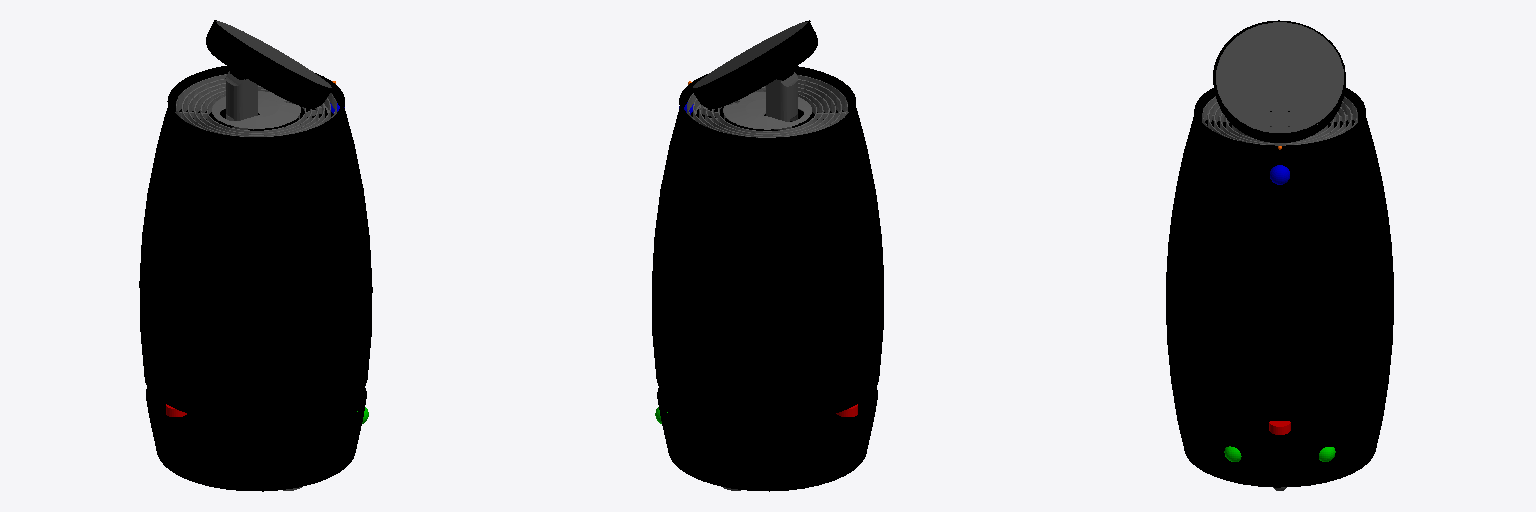
--- Facts derived from the render (not from the file) ---
The picture shows the robot from 3 angles, left to right: view 1: azimuth 30°, elevation 25°; view 2: azimuth 150°, elevation 25°; view 3: azimuth 270°, elevation 25°; orthographic projection.
Model clean_robot with 28 links and 27 joints (6 continuous, 21 fixed), rooted at base_link, posed all joints at 0.
Visible links, largest first — view 1: hull_base, hull_grill, hull_head, hull_neck, hull_face, hull_link; view 2: hull_base, hull_grill, hull_head, hull_neck, hull_face, hull_link; view 3: hull_base, hull_face, hull_grill, hull_head, hull_link.
Link boxes in pixels (bbox=[...]): hull_base: bbox=[139, 66, 372, 491]; hull_grill: bbox=[175, 74, 336, 136]; hull_head: bbox=[206, 20, 332, 108]; hull_neck: bbox=[225, 71, 257, 129]; hull_face: bbox=[216, 21, 331, 87]; hull_link: bbox=[176, 106, 334, 432]; hull_base: bbox=[652, 66, 883, 491]; hull_grill: bbox=[687, 75, 848, 137]; hull_head: bbox=[691, 20, 817, 108]; hull_neck: bbox=[766, 72, 797, 130]; hull_face: bbox=[693, 22, 807, 87]; hull_link: bbox=[689, 107, 847, 432]; hull_base: bbox=[1166, 88, 1393, 487]; hull_face: bbox=[1216, 22, 1343, 132]; hull_grill: bbox=[1202, 96, 1357, 145]; hull_head: bbox=[1213, 20, 1345, 142]; hull_link: bbox=[1203, 120, 1356, 424].
Size in the robot's own frame: 0.3731 by 0.3797 by 0.7785 metres.
Meshes: 5 distinct files referenced, 5 mesh visuals loaded (5 binary STL).

The robot description file, URDF, robot "clean_robot":
<?xml version="1.0" ?>
<!-- =================================================================================== -->
<!-- |    This document was autogenerated by xacro from a1.xacro                       | -->
<!-- |    EDITING THIS FILE BY HAND IS NOT RECOMMENDED                                 | -->
<!-- =================================================================================== -->
<robot name="clean_robot">
  <!-- =========================== XACRO Properties ========================= -->
  <!-- ====================================================================== -->
  <material name="black">
    <color rgba="0.0 0.0 0.0 1.0"/>
  </material>
  <material name="dark">
    <color rgba="0.3 0.3 0.3 1.0"/>
  </material>
  <material name="light_black">
    <color rgba="0.4 0.4 0.4 1.0"/>
  </material>
  <material name="blue">
    <color rgba="0.0 0.0 0.8 1.0"/>
  </material>
  <material name="green">
    <color rgba="0.0 0.8 0.0 1.0"/>
  </material>
  <material name="grey">
    <color rgba="0.5 0.5 0.5 1.0"/>
  </material>
  <material name="orange">
    <color rgba="1.0 0.4235 0.0392 1.0"/>
  </material>
  <material name="brown">
    <color rgba="0.8706 0.8118 0.7647 1.0"/>
  </material>
  <material name="red">
    <color rgba="0.8 0.0 0.0 1.0"/>
  </material>
  <material name="white">
    <color rgba="1.0 1.0 1.0 1.0"/>
  </material>
  <link name="base_link">
    <visual>
      <origin rpy="0 0 0" xyz="0 0 0.065"/>
      <geometry>
        <cylinder length="0.08" radius="0.159"/>
      </geometry>
      <material name="black"/>
    </visual>
    <collision>
      <origin rpy="0 0 0" xyz="0 0 0.065"/>
      <geometry>
        <cylinder length="0.08" radius="0.18"/>
      </geometry>
    </collision>
    <inertial>
      <mass value="6.0"/>
      <origin xyz="0 0 0"/>
      <inertia ixx="0.01" ixy="0.0" ixz="0.0" iyy="0.01" iyz="0.0" izz="0.01"/>
    </inertial>
  </link>
  <gazebo reference="base_link">
    <material>Gazebo/Grey</material>
  </gazebo>
  <link name="hull_link">
    <visual>
      <origin rpy="0 0 0" xyz="0 0 0.32"/>
      <geometry>
        <cylinder length="0.56" radius="0.13"/>
      </geometry>
      <material name="black"/>
    </visual>
    <collision>
      <origin rpy="0 0 0" xyz="0 0 0.425"/>
      <geometry>
        <cylinder length="0.64" radius="0.13"/>
      </geometry>
    </collision>
    <inertial>
      <mass value="6.0"/>
      <origin xyz="0 0 0"/>
      <inertia ixx="0.18" ixy="0.0" ixz="0.0" iyy="0.18" iyz="0.0" izz="0.05"/>
    </inertial>
  </link>
  <gazebo reference="hull_link">
    <material>Gazebo/Black</material>
  </gazebo>
  <link name="hull_base">
    <visual>
      <origin rpy="0 0 0" xyz="0 0 0"/>
      <geometry>
        <mesh filename="package://namuhx-a1/meshes/base.stl"/>
      </geometry>
      <material name="black"/>
    </visual>
  </link>
  <gazebo reference="hull_base">
    <material>Gazebo/Black</material>
  </gazebo>
  <link name="hull_grill">
    <visual>
      <origin rpy="0 0 0" xyz="0 0 0"/>
      <geometry>
        <mesh filename="package://namuhx-a1/meshes/grill.stl"/>
      </geometry>
      <material name="light_black"/>
    </visual>
  </link>
  <gazebo reference="hull_grill">
    <material>Gazebo/Grey</material>
  </gazebo>
  <link name="hull_neck">
    <visual>
      <origin rpy="0 0 0" xyz="0 0 0"/>
      <geometry>
        <mesh filename="package://namuhx-a1/meshes/neck.stl"/>
      </geometry>
      <material name="dark"/>
    </visual>
  </link>
  <gazebo reference="hull_neck">
    <material>Gazebo/DarkGrey</material>
  </gazebo>
  <link name="hull_head">
    <visual>
      <origin rpy="0 0 0" xyz="0 0 0"/>
      <geometry>
        <mesh filename="package://namuhx-a1/meshes/head.stl"/>
      </geometry>
      <material name="black"/>
    </visual>
  </link>
  <gazebo reference="hull_head">
    <material>Gazebo/Black</material>
  </gazebo>
  <link name="hull_face">
    <visual>
      <origin rpy="0 0 0" xyz="0 0 0"/>
      <geometry>
        <mesh filename="package://namuhx-a1/meshes/face.stl"/>
      </geometry>
      <material name="dark"/>
    </visual>
  </link>
  <gazebo reference="hull_face">
    <material>Gazebo/DarkGrey</material>
  </gazebo>
  <link name="wheel_main_left_link">
    <visual>
      <origin rpy="0 0 0" xyz="0 0 0"/>
      <geometry>
        <cylinder length="0.0307" radius="0.0501"/>
      </geometry>
      <material name="dark"/>
    </visual>
    <collision>
      <origin rpy="0 0 0" xyz="0 0 0"/>
      <geometry>
        <cylinder length="0.0307" radius="0.0501"/>
      </geometry>
    </collision>
    <inertial>
      <mass value="1.0"/>
      <origin xyz="0 0 0"/>
      <inertia ixx="0.01" ixy="0.0" ixz="0.0" iyy="0.01" iyz="0.0" izz="0.01"/>
    </inertial>
  </link>
  <gazebo reference="wheel_main_left_link">
    <material>Gazebo/DarkGrey</material>
  </gazebo>
  <link name="wheel_main_right_link">
    <visual>
      <origin rpy="0 0 0" xyz="0 0 0"/>
      <geometry>
        <cylinder length="0.0307" radius="0.0501"/>
      </geometry>
      <material name="dark"/>
    </visual>
    <collision>
      <origin rpy="0 0 0" xyz="0 0 0"/>
      <geometry>
        <cylinder length="0.0307" radius="0.0501"/>
      </geometry>
    </collision>
    <inertial>
      <mass value="1.0"/>
      <origin xyz="0 0 0"/>
      <inertia ixx="0.01" ixy="0.0" ixz="0.0" iyy="0.01" iyz="0.0" izz="0.01"/>
    </inertial>
  </link>
  <gazebo reference="wheel_main_right_link">
    <material>Gazebo/DarkGrey</material>
  </gazebo>
  <link name="wheel_sub_front_link">
    <visual>
      <origin rpy="0 0 0" xyz="0 0 0"/>
      <geometry>
        <sphere radius="0.0125"/>
      </geometry>
      <material name="dark"/>
    </visual>
    <collision>
      <origin rpy="0 0 0" xyz="0 0 0"/>
      <geometry>
        <sphere radius="0.0125"/>
      </geometry>
    </collision>
    <inertial>
      <mass value="0.2"/>
      <origin xyz="0 0 0"/>
      <inertia ixx="0.01" ixy="0.0" ixz="0.0" iyy="0.01" iyz="0.0" izz="0.01"/>
    </inertial>
  </link>
  <gazebo reference="wheel_sub_front_link">
    <material>Gazebo/DarkGrey</material>
  </gazebo>
  <link name="wheel_sub_front_swivel">
    <visual>
      <origin rpy="0 0 0" xyz="0 0 0.018"/>
      <geometry>
        <cylinder length="0.02" radius="0.02125"/>
      </geometry>
      <material name="dark"/>
    </visual>
    <collision>
      <origin rpy="0 0 0" xyz="0 0 0.018"/>
      <geometry>
        <cylinder length="0.02" radius="0.02125"/>
      </geometry>
    </collision>
    <inertial>
      <mass value="0.1"/>
      <origin xyz="0 0 0"/>
      <inertia ixx="0.01" ixy="0.0" ixz="0.0" iyy="0.01" iyz="0.0" izz="0.01"/>
    </inertial>
  </link>
  <gazebo reference="wheel_sub_front_swivel">
    <material>Gazebo/Grey</material>
  </gazebo>
  <link name="wheel_sub_back_link">
    <visual>
      <origin rpy="0 0 0" xyz="0 0 0"/>
      <geometry>
        <sphere radius="0.0125"/>
      </geometry>
      <material name="dark"/>
    </visual>
    <collision>
      <origin rpy="0 0 0" xyz="0 0 0"/>
      <geometry>
        <sphere radius="0.0125"/>
      </geometry>
    </collision>
    <inertial>
      <mass value="0.2"/>
      <origin xyz="0 0 0"/>
      <inertia ixx="0.01" ixy="0.0" ixz="0.0" iyy="0.01" iyz="0.0" izz="0.01"/>
    </inertial>
  </link>
  <gazebo reference="wheel_sub_back_link">
    <material>Gazebo/DarkGrey</material>
  </gazebo>
  <link name="wheel_sub_back_swivel">
    <visual>
      <origin rpy="0 0 0" xyz="0 0 0.018"/>
      <geometry>
        <cylinder length="0.02" radius="0.02125"/>
      </geometry>
      <material name="dark"/>
    </visual>
    <collision>
      <origin rpy="0 0 0" xyz="0 0 0.018"/>
      <geometry>
        <cylinder length="0.02" radius="0.02125"/>
      </geometry>
    </collision>
    <inertial>
      <mass value="0.1"/>
      <origin xyz="0 0 0"/>
      <inertia ixx="0.01" ixy="0.0" ixz="0.0" iyy="0.01" iyz="0.0" izz="0.01"/>
    </inertial>
  </link>
  <gazebo reference="wheel_sub_back_swivel">
    <material>Gazebo/Grey</material>
  </gazebo>
  <link name="imu_link"/>
  <link name="base_sensor"/>
  <link name="base_sensor_lidar_front">
    <visual>
      <origin rpy="0 0 0" xyz="0 0 0"/>
      <geometry>
        <cylinder length="0.0176" radius="0.0176"/>
      </geometry>
      <material name="red"/>
    </visual>
  </link>
  <gazebo reference="base_sensor_lidar_front">
    <material>Gazebo/Red</material>
  </gazebo>
  <link name="base_sensor_lidar_back">
    <visual>
      <origin rpy="0 0 0" xyz="0 0 0"/>
      <geometry>
        <cylinder length="0.0176" radius="0.0176"/>
      </geometry>
      <material name="red"/>
    </visual>
  </link>
  <gazebo reference="base_sensor_lidar_back">
    <material>Gazebo/Red</material>
  </gazebo>
  <link name="base_sensor_tof_left">
    <visual>
      <origin rpy="0 0 0" xyz="0 0 0"/>
      <geometry>
        <sphere radius="0.0176"/>
      </geometry>
      <material name="green"/>
    </visual>
  </link>
  <gazebo reference="base_sensor_tof_left">
    <material>Gazebo/Green</material>
  </gazebo>
  <link name="base_sensor_tof_left_frame"/>
  <link name="base_sensor_tof_right">
    <visual>
      <origin rpy="0 0 0" xyz="0 0 0"/>
      <geometry>
        <sphere radius="0.0176"/>
      </geometry>
      <material name="green"/>
    </visual>
  </link>
  <gazebo reference="base_sensor_tof_right">
    <material>Gazebo/Green</material>
  </gazebo>
  <link name="base_sensor_tof_right_frame"/>
  <link name="base_sensor_camera">
    <visual>
      <origin rpy="0 0 0" xyz="0 0 0"/>
      <geometry>
        <sphere radius="0.0176"/>
      </geometry>
      <material name="blue"/>
    </visual>
  </link>
  <gazebo reference="base_sensor_camera">
    <material>Gazebo/SkyBlue</material>
  </gazebo>
  <link name="base_sensor_camera_frame"/>
  <link name="base_sensor_ray">
    <visual>
      <origin rpy="0 0 0" xyz="0 0 0"/>
      <geometry>
        <sphere radius="0.0034"/>
      </geometry>
      <material name="orange"/>
    </visual>
  </link>
  <gazebo reference="base_sensor_ray">
    <material>Gazebo/Yellow</material>
  </gazebo>
  <!-- Joints -->
  <joint name="hull_joint" type="fixed">
    <parent link="base_link"/>
    <child link="hull_link"/>
    <origin rpy="0 0 1.570796326795" xyz="0 0 0"/>
  </joint>
  <joint name="hull_base_joint" type="fixed">
    <parent link="hull_link"/>
    <child link="hull_base"/>
    <origin rpy="0 0 0" xyz="0 0 0"/>
  </joint>
  <joint name="hull_grill_joint" type="fixed">
    <parent link="hull_link"/>
    <child link="hull_grill"/>
    <origin rpy="0 0 0" xyz="0 0 0"/>
  </joint>
  <joint name="hull_neck_joint" type="fixed">
    <parent link="hull_link"/>
    <child link="hull_neck"/>
    <origin rpy="0 0 0" xyz="0 0 0"/>
  </joint>
  <joint name="hull_head_joint" type="fixed">
    <parent link="hull_link"/>
    <child link="hull_head"/>
    <origin rpy="0 0 0" xyz="0 0 0"/>
  </joint>
  <joint name="hull_face_joint" type="fixed">
    <parent link="hull_link"/>
    <child link="hull_face"/>
    <origin rpy="0 0 0" xyz="0 0 0"/>
  </joint>
  <joint name="wheel_main_left_joint" type="continuous">
    <parent link="base_link"/>
    <child link="wheel_main_left_link"/>
    <origin rpy="-1.570796326795 0 0" xyz="0 0.1069 0.0501"/>
    <axis xyz="0 0 1"/>
  </joint>
  <joint name="wheel_main_right_joint" type="continuous">
    <parent link="base_link"/>
    <child link="wheel_main_right_link"/>
    <origin rpy="-1.570796326795 0 0" xyz="0 -0.1069 0.0501"/>
    <axis xyz="0 0 1"/>
  </joint>
  <joint name="wheel_sub_front_swivel_joint" type="continuous">
    <parent link="base_link"/>
    <child link="wheel_sub_front_swivel"/>
    <origin rpy="0 0 0" xyz="0.1166 0 0.0125"/>
    <axis xyz="0 0 1"/>
  </joint>
  <joint name="wheel_sub_front_joint" type="continuous">
    <parent link="wheel_sub_front_swivel"/>
    <child link="wheel_sub_front_link"/>
    <origin rpy="0 0 0" xyz="0.00625 0 0"/>
    <axis xyz="0 1 0"/>
  </joint>
  <joint name="wheel_sub_back_swivel_joint" type="continuous">
    <parent link="base_link"/>
    <child link="wheel_sub_back_swivel"/>
    <origin rpy="0 0 0" xyz="-0.1166 0 0.0125"/>
    <axis xyz="0 0 1"/>
  </joint>
  <joint name="wheel_sub_back_joint" type="continuous">
    <parent link="wheel_sub_back_swivel"/>
    <child link="wheel_sub_back_link"/>
    <origin rpy="0 0 0" xyz="0.00625 0 0"/>
    <axis xyz="0 1 0"/>
  </joint>
  <joint name="imu_joint" type="fixed">
    <parent link="base_link"/>
    <child link="imu_link"/>
    <origin rpy="0 0 0" xyz="0 0 0.09"/>
  </joint>
  <joint name="base_sensor_joint" type="fixed">
    <parent link="hull_link"/>
    <child link="base_sensor"/>
    <origin rpy="0 0 -1.570796326795" xyz="0 0 0.03"/>
  </joint>
  <joint name="sensor_lidar_front_joint" type="fixed">
    <parent link="base_sensor"/>
    <child link="base_sensor_lidar_front"/>
    <origin rpy="0 0 0" xyz="0.1475 0 0.0984"/>
  </joint>
  <joint name="sensor_lidar_back_joint" type="fixed">
    <parent link="base_sensor"/>
    <child link="base_sensor_lidar_back"/>
    <origin rpy="0 0 3.14159265359" xyz="-0.1475 0 0.0984"/>
  </joint>
  <joint name="sensor_tof_left_joint" type="fixed">
    <parent link="base_sensor"/>
    <child link="base_sensor_tof_left"/>
    <origin rpy="0 0.0 0.2792526803191111" xyz="0.145 0.075 0.052"/>
  </joint>
  <joint name="sensor_tof_left_frame_joint" type="fixed">
    <parent link="base_sensor_tof_left"/>
    <child link="base_sensor_tof_left_frame"/>
    <origin rpy="-1.570796326795 0 -1.570796326795" xyz="0 0 0"/>
  </joint>
  <joint name="sensor_tof_right_joint" type="fixed">
    <parent link="base_sensor"/>
    <child link="base_sensor_tof_right"/>
    <origin rpy="0 0.0 -0.2792526803191111" xyz="0.145 -0.075 0.052"/>
  </joint>
  <joint name="sensor_tof_right_frame_joint" type="fixed">
    <parent link="base_sensor_tof_right"/>
    <child link="base_sensor_tof_right_frame"/>
    <origin rpy="-1.570796326795 0 -1.570796326795" xyz="0 0 0"/>
  </joint>
  <joint name="sensor_camera_joint" type="fixed">
    <parent link="base_sensor"/>
    <child link="base_sensor_camera"/>
    <origin rpy="0 0.43633231299861114 0" xyz="0.145 0 0.561"/>
  </joint>
  <joint name="sensor_camera_frame_joint" type="fixed">
    <parent link="base_sensor_camera"/>
    <child link="base_sensor_camera_frame"/>
    <origin rpy="-1.570796326795 0 -1.570796326795" xyz="0 0 0"/>
  </joint>
  <joint name="sensor_ray_joint" type="fixed">
    <parent link="base_sensor"/>
    <child link="base_sensor_ray"/>
    <origin rpy="0 -0.26179938779916667 0" xyz="0.144 0 0.6095"/>
  </joint>
  <!-- Plugins -->
  <gazebo>
    <plugin filename="libgazebo_ros_diff_drive.so" name="diff_drive_controller">
      <left_joint>wheel_main_left_joint</left_joint>
      <right_joint>wheel_main_right_joint</right_joint>
      <wheel_separation>0.2138</wheel_separation>
      <wheel_diameter>0.1002</wheel_diameter>
      <command_topic>cmd_vel</command_topic>
      <odometry_topic>odom</odometry_topic>
      <robot_base_frame>base_link</robot_base_frame>
      <publish_odom>true</publish_odom>
      <publish_odom_tf>true</publish_odom_tf>
    </plugin>
  </gazebo>
  <gazebo reference="base_sensor_lidar_front">
    <sensor name="base_sensor_lidar_front_sensor" type="ray">
      <update_rate>10</update_rate>
      <ray>
        <scan>
          <horizontal>
            <samples>241</samples>
            <resolution>1</resolution>
            <min_angle>-1.8995</min_angle>
            <max_angle>1.8995</max_angle>
          </horizontal>
        </scan>
        <range>
          <min>0.05</min>
          <max>8</max>
          <resolution>0.001</resolution>
        </range>
        <noise>
          <type>gaussian</type>
          <mean>0.0</mean>
          <stddev>0</stddev>
        </noise>
      </ray>
      <plugin filename="libgazebo_ros_ray_sensor.so" name="base_sensor_lidar_front_controller">
        <output_type>sensor_msgs/LaserScan</output_type>
        <frame_name>base_sensor_lidar_front</frame_name>
      </plugin>
    </sensor>
  </gazebo>
  <gazebo reference="base_sensor_lidar_back">
    <sensor name="base_sensor_lidar_back_sensor" type="ray">
      <update_rate>10</update_rate>
      <ray>
        <scan>
          <horizontal>
            <samples>241</samples>
            <resolution>1</resolution>
            <min_angle>-1.8995</min_angle>
            <max_angle>1.8995</max_angle>
          </horizontal>
        </scan>
        <range>
          <min>0.05</min>
          <max>8</max>
          <resolution>0.001</resolution>
        </range>
        <noise>
          <type>gaussian</type>
          <mean>0.0</mean>
          <stddev>0</stddev>
        </noise>
      </ray>
      <plugin filename="libgazebo_ros_ray_sensor.so" name="base_sensor_lidar_back_controller">
        <output_type>sensor_msgs/LaserScan</output_type>
        <frame_name>base_sensor_lidar_back</frame_name>
      </plugin>
    </sensor>
  </gazebo>
  <gazebo reference="base_sensor_tof_left">
    <sensor name="base_sensor_tof_left_sensor" type="depth">
      <update_rate>10</update_rate>
      <camera>
        <horizontal_fov>0.6108652381980556</horizontal_fov>
        <image>
          <width>8</width>
          <height>8</height>
          <format>R8G8B8</format>
        </image>
        <clip>
          <near>0.05</near>
          <far>4</far>
        </clip>
        <noise>
          <type>gaussian</type>
          <mean>0</mean>
          <stddev>0</stddev>
        </noise>
      </camera>
      <plugin filename="libgazebo_ros_camera.so" name="base_sensor_tof_left_controller">
        <frame_name>base_sensor_tof_left_frame</frame_name>
        <min_depth>0.05</min_depth>
        <max_depth>4</max_depth>
      </plugin>
    </sensor>
  </gazebo>
  <gazebo reference="base_sensor_tof_right">
    <sensor name="base_sensor_tof_right_sensor" type="depth">
      <update_rate>10</update_rate>
      <camera>
        <horizontal_fov>0.6108652381980556</horizontal_fov>
        <image>
          <width>8</width>
          <height>8</height>
          <format>R8G8B8</format>
        </image>
        <clip>
          <near>0.05</near>
          <far>4</far>
        </clip>
        <noise>
          <type>gaussian</type>
          <mean>0</mean>
          <stddev>0</stddev>
        </noise>
      </camera>
      <plugin filename="libgazebo_ros_camera.so" name="base_sensor_tof_right_controller">
        <frame_name>base_sensor_tof_right_frame</frame_name>
        <min_depth>0.05</min_depth>
        <max_depth>4</max_depth>
      </plugin>
    </sensor>
  </gazebo>
  <gazebo reference="base_sensor_camera">
    <sensor name="base_sensor_camera_sensor" type="camera">
      <update_rate>10</update_rate>
      <camera>
        <horizontal_fov>2.0245819323135557</horizontal_fov>
        <image>
          <width>640</width>
          <height>480</height>
          <format>R8G8B8</format>
        </image>
        <clip>
          <near>0.05</near>
          <far>40</far>
        </clip>
      </camera>
      <plugin filename="libgazebo_ros_camera.so" name="base_sensor_camera_controller">
        <frame_name>base_sensor_camera_frame</frame_name>
      </plugin>
    </sensor>
  </gazebo>
  <gazebo reference="base_sensor_ray">
    <sensor name="base_sensor_ray_sensor" type="ray">
      <update_rate>10</update_rate>
      <ray>
        <scan>
          <horizontal>
            <samples>3</samples>
            <resolution>1</resolution>
            <min_angle>-0.005</min_angle>
            <max_angle>0.005</max_angle>
          </horizontal>
        </scan>
        <range>
          <min>0.01</min>
          <max>1</max>
          <resolution>0.001</resolution>
        </range>
        <noise>
          <type>gaussian</type>
          <mean>0.0</mean>
          <stddev>0</stddev>
        </noise>
      </ray>
      <plugin filename="libgazebo_ros_ray_sensor.so" name="base_sensor_ray_controller">
        <output_type>sensor_msgs/LaserScan</output_type>
        <frame_name>base_sensor_ray</frame_name>
      </plugin>
    </sensor>
  </gazebo>
  <link name="collision_ray_0"/>
  <joint name="collision_ray_0_joint" type="fixed">
    <parent link="base_link"/>
    <child link="collision_ray_0"/>
    <origin rpy="0 0 0" xyz="0 0 0.03"/>
  </joint>
  <gazebo reference="collision_ray_0">
    <sensor name="collision_ray_0_sensor" type="ray">
      <update_rate>10</update_rate>
      <ray>
        <scan>
          <horizontal>
            <samples>32</samples>
            <resolution>1</resolution>
            <min_angle>-3.14</min_angle>
            <max_angle>3.14</max_angle>
          </horizontal>
        </scan>
        <range>
          <min>0.2</min>
          <max>0.3</max>
          <resolution>0.001</resolution>
        </range>
        <noise>
          <type>gaussian</type>
          <mean>0.0</mean>
          <stddev>0</stddev>
        </noise>
      </ray>
      <plugin filename="libgazebo_ros_ray_sensor.so" name="collision_ray_0_controller">
        <output_type>sensor_msgs/LaserScan</output_type>
        <frame_name>collision_ray_0</frame_name>
      </plugin>
    </sensor>
  </gazebo>
  <link name="collision_ray_1"/>
  <joint name="collision_ray_1_joint" type="fixed">
    <parent link="base_link"/>
    <child link="collision_ray_1"/>
    <origin rpy="0 0 0" xyz="0 0 0.25"/>
  </joint>
  <gazebo reference="collision_ray_1">
    <sensor name="collision_ray_1_sensor" type="ray">
      <update_rate>10</update_rate>
      <ray>
        <scan>
          <horizontal>
            <samples>32</samples>
            <resolution>1</resolution>
            <min_angle>-3.14</min_angle>
            <max_angle>3.14</max_angle>
          </horizontal>
        </scan>
        <range>
          <min>0.2</min>
          <max>0.3</max>
          <resolution>0.001</resolution>
        </range>
        <noise>
          <type>gaussian</type>
          <mean>0.0</mean>
          <stddev>0</stddev>
        </noise>
      </ray>
      <plugin filename="libgazebo_ros_ray_sensor.so" name="collision_ray_1_controller">
        <output_type>sensor_msgs/LaserScan</output_type>
        <frame_name>collision_ray_1</frame_name>
      </plugin>
    </sensor>
  </gazebo>
  <link name="collision_ray_2"/>
  <joint name="collision_ray_2_joint" type="fixed">
    <parent link="base_link"/>
    <child link="collision_ray_2"/>
    <origin rpy="0 0 0" xyz="0 0 0.5"/>
  </joint>
  <gazebo reference="collision_ray_2">
    <sensor name="collision_ray_2_sensor" type="ray">
      <update_rate>10</update_rate>
      <ray>
        <scan>
          <horizontal>
            <samples>32</samples>
            <resolution>1</resolution>
            <min_angle>-3.14</min_angle>
            <max_angle>3.14</max_angle>
          </horizontal>
        </scan>
        <range>
          <min>0.2</min>
          <max>0.3</max>
          <resolution>0.001</resolution>
        </range>
        <noise>
          <type>gaussian</type>
          <mean>0.0</mean>
          <stddev>0</stddev>
        </noise>
      </ray>
      <plugin filename="libgazebo_ros_ray_sensor.so" name="collision_ray_2_controller">
        <output_type>sensor_msgs/LaserScan</output_type>
        <frame_name>collision_ray_2</frame_name>
      </plugin>
    </sensor>
  </gazebo>
  <link name="collision_ray_3"/>
  <joint name="collision_ray_3_joint" type="fixed">
    <parent link="base_link"/>
    <child link="collision_ray_3"/>
    <origin rpy="0 0 0" xyz="0 0 0.75"/>
  </joint>
  <gazebo reference="collision_ray_3">
    <sensor name="collision_ray_3_sensor" type="ray">
      <update_rate>10</update_rate>
      <ray>
        <scan>
          <horizontal>
            <samples>32</samples>
            <resolution>1</resolution>
            <min_angle>-3.14</min_angle>
            <max_angle>3.14</max_angle>
          </horizontal>
        </scan>
        <range>
          <min>0.2</min>
          <max>0.3</max>
          <resolution>0.001</resolution>
        </range>
        <noise>
          <type>gaussian</type>
          <mean>0.0</mean>
          <stddev>0</stddev>
        </noise>
      </ray>
      <plugin filename="libgazebo_ros_ray_sensor.so" name="collision_ray_3_controller">
        <output_type>sensor_msgs/LaserScan</output_type>
        <frame_name>collision_ray_3</frame_name>
      </plugin>
    </sensor>
  </gazebo>
</robot>
